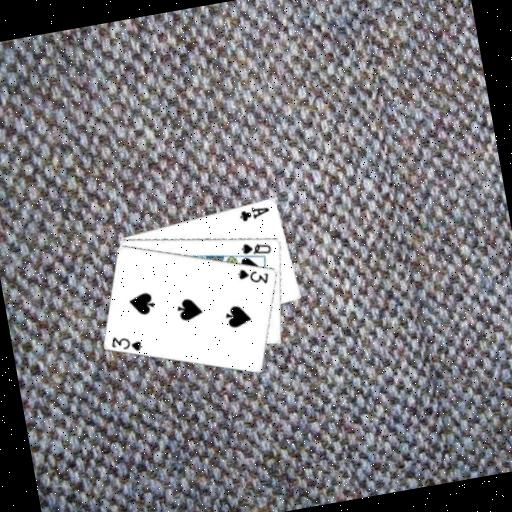3S: (107, 328, 144, 357), (234, 261, 271, 289)
AC: (236, 201, 272, 224)
QS: (237, 235, 273, 259)
